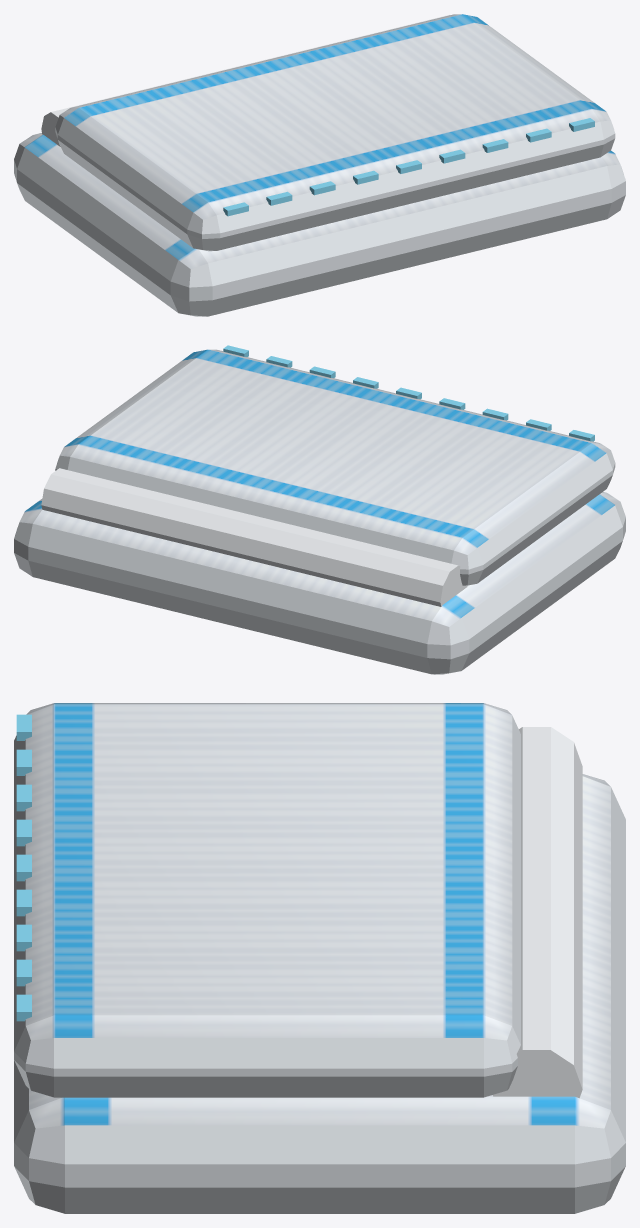
The model's file is T_towel_v2.glb.
3 views of the same model, one above another, from view 1: azimuth 30°, elevation 25°; view 2: azimuth 150°, elevation 25°; view 3: azimuth 270°, elevation 25° (orthographic). The views are drawn at different scales.
Visible parts, largest first — view 1: UpperFold, FoldedTowel, HemStitches, FoldSeam; view 2: UpperFold, FoldedTowel, FoldSeam, HemStitches; view 3: UpperFold, FoldedTowel, FoldSeam, HemStitches.
Part boxes in pixels (x1=…): UpperFold: x1=55, y1=14, x2=615, y2=251; FoldedTowel: x1=14, y1=133, x2=625, y2=316; HemStitches: x1=223, y1=118, x2=594, y2=216; FoldSeam: x1=41, y1=15, x2=450, y2=146; UpperFold: x1=55, y1=349, x2=615, y2=585; FoldedTowel: x1=14, y1=492, x2=625, y2=674; FoldSeam: x1=41, y1=468, x2=467, y2=606; HemStitches: x1=223, y1=345, x2=594, y2=441; UpperFold: x1=14, y1=703, x2=520, y2=1097; FoldedTowel: x1=14, y1=774, x2=625, y2=1213; FoldSeam: x1=493, y1=727, x2=582, y2=1098; HemStitches: x1=16, y1=714, x2=31, y2=1021.
Bounding box in the file's own units: 0.34 × 0.0825 × 0.24.
Materials: 3 (1 with a texture image).
